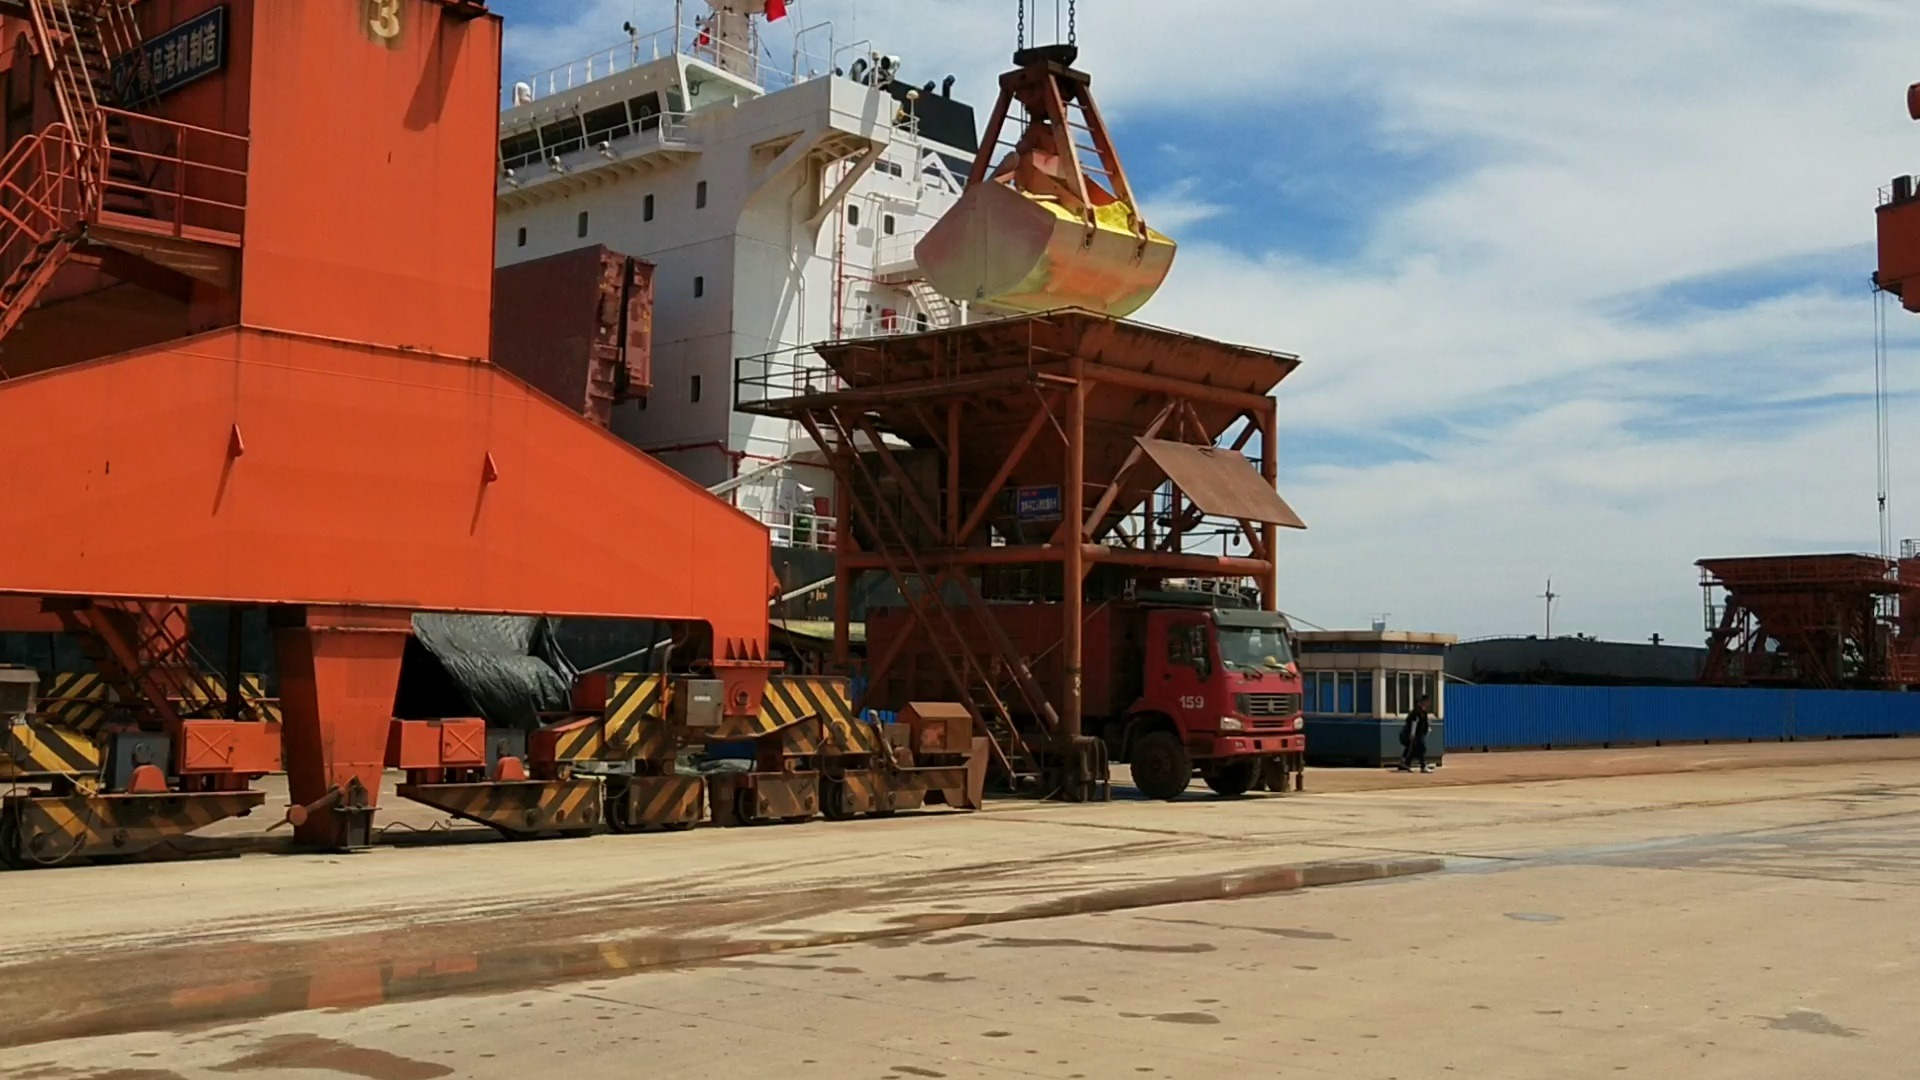grab: (905, 22, 1185, 326)
truck: (1083, 576, 1313, 802)
